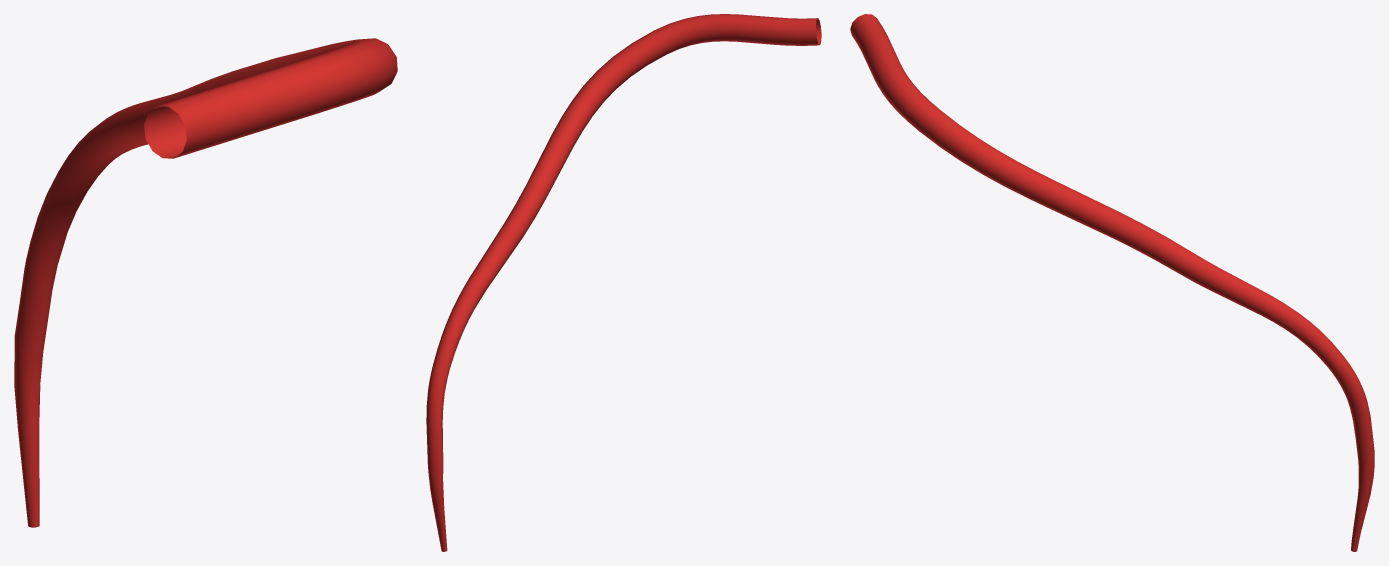
File: circulatorio-lateral-sacral-veins-r.glb
3 renders of one model, left to right at view 1: azimuth 30°, elevation 25°; view 2: azimuth 150°, elevation 25°; view 3: azimuth 270°, elevation 25°, orthographic. The views are drawn at different scales.
Visible parts, largest first — view 1: Lateral sacral veins.r; view 2: Lateral sacral veins.r; view 3: Lateral sacral veins.r.
Part boxes in pixels (bbox=[...]): Lateral sacral veins.r: bbox=[14, 38, 397, 527]; Lateral sacral veins.r: bbox=[426, 14, 821, 551]; Lateral sacral veins.r: bbox=[850, 14, 1374, 551].
Size of the model in its own units: 0.0211 by 0.0459 by 0.048.
